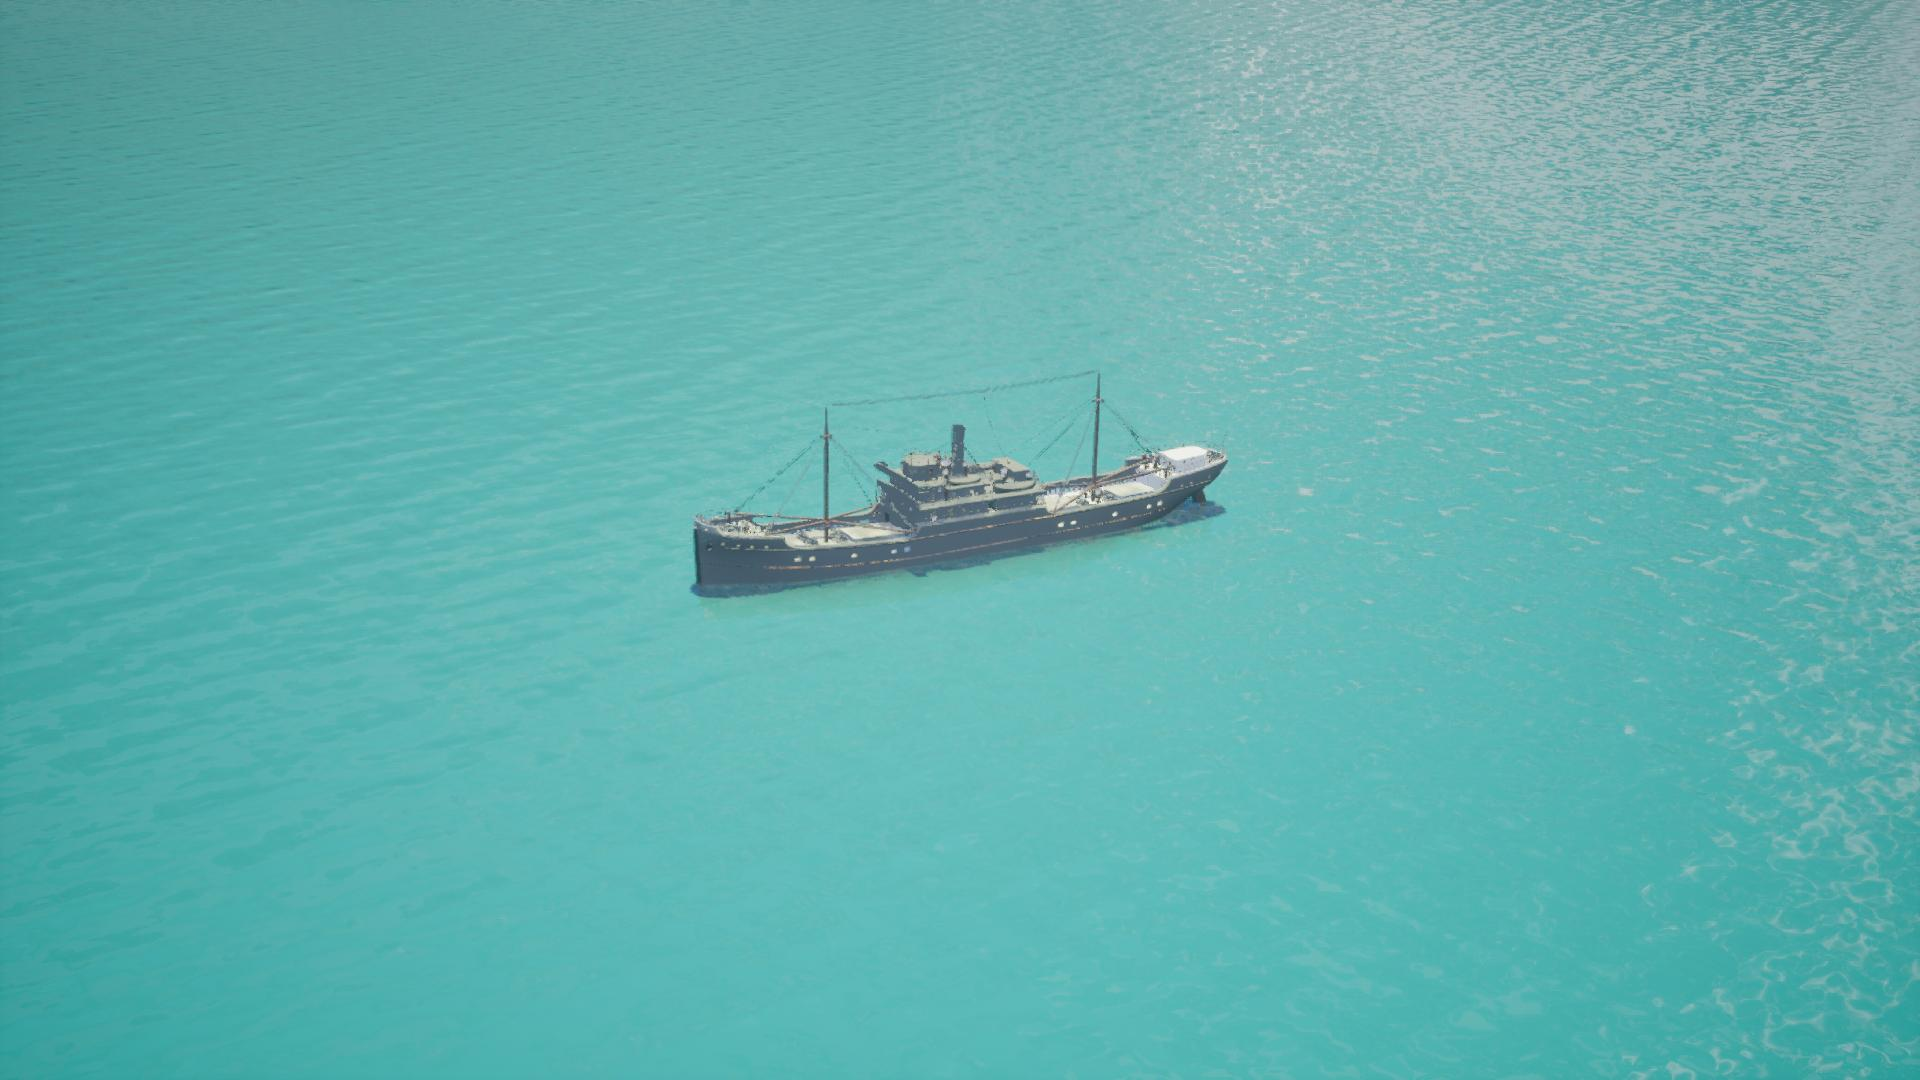Fishing Boat: (690, 401, 1228, 595)
